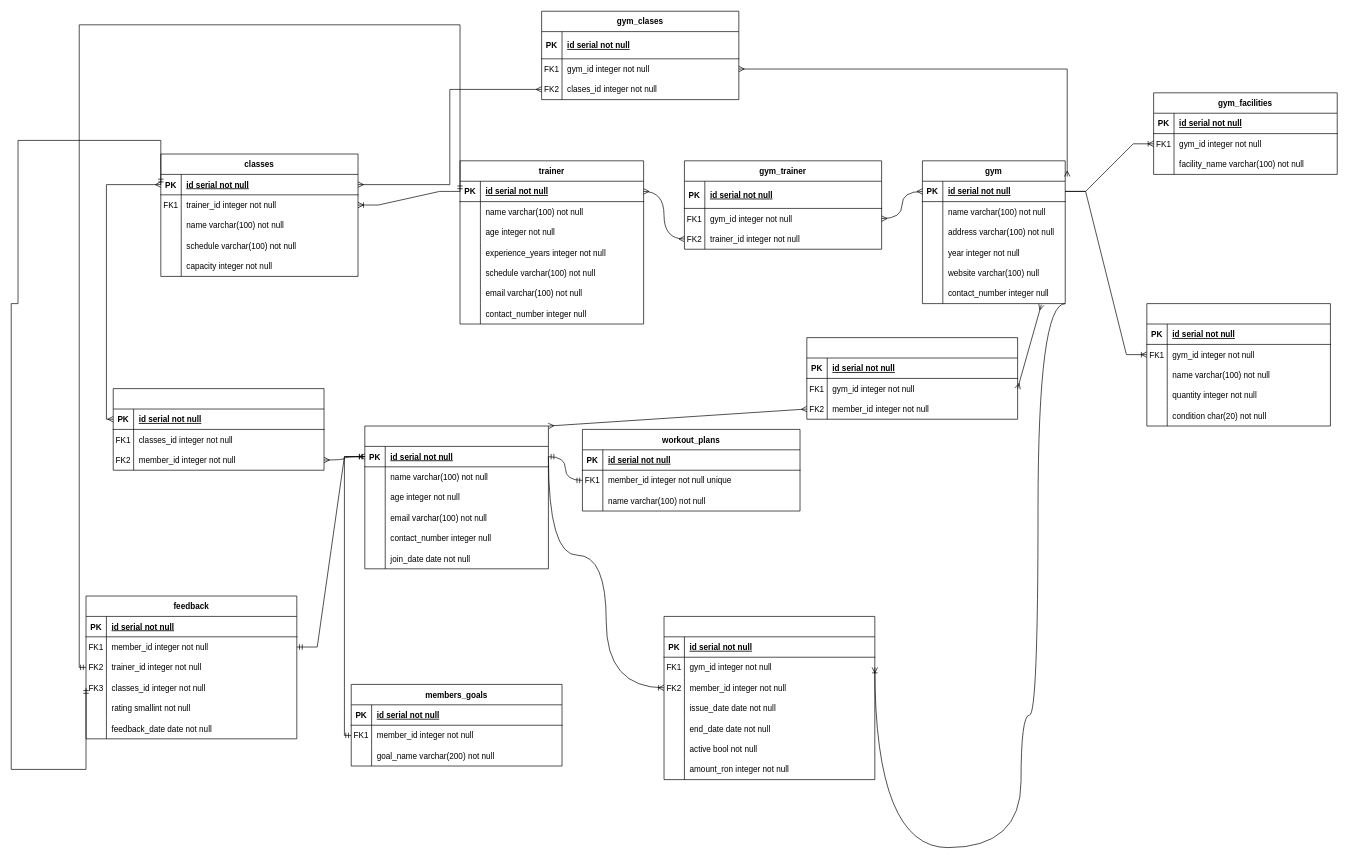
Image size: 1348x859. Some labels were removed from this diagram. Here are the shapes that lost their labels. From the top down, the box of each, then its label:
(806, 337, 1018, 419): gym_members
(1146, 303, 1330, 426): equipment
(113, 388, 324, 470): member_clases
(364, 425, 548, 569): members
(663, 616, 875, 780): subscription
